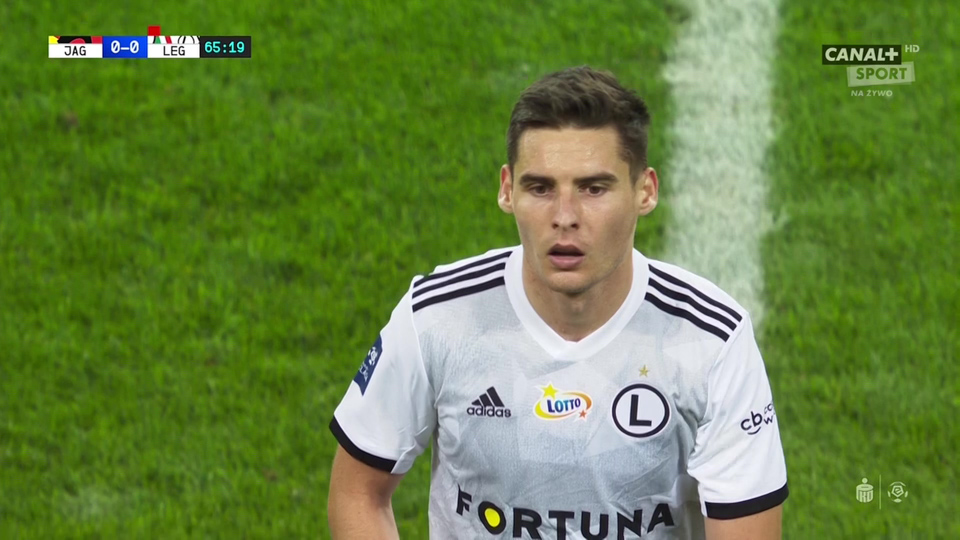Adidas: (466, 384, 512, 419)
